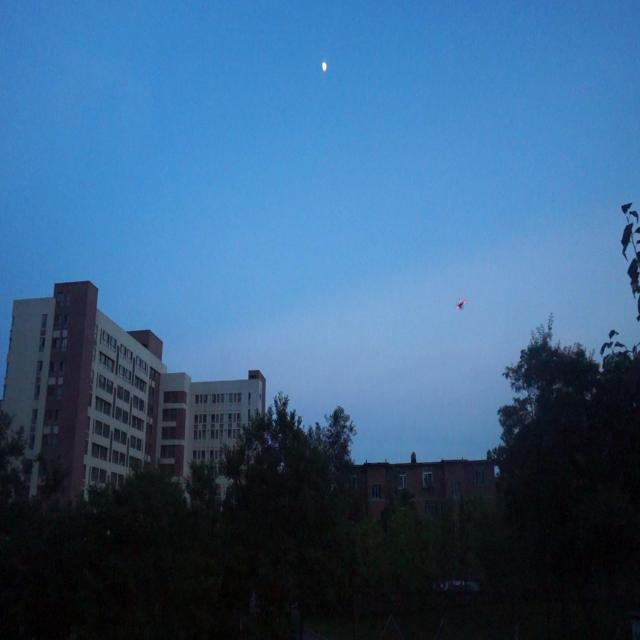UAV: (455, 298, 466, 310)
